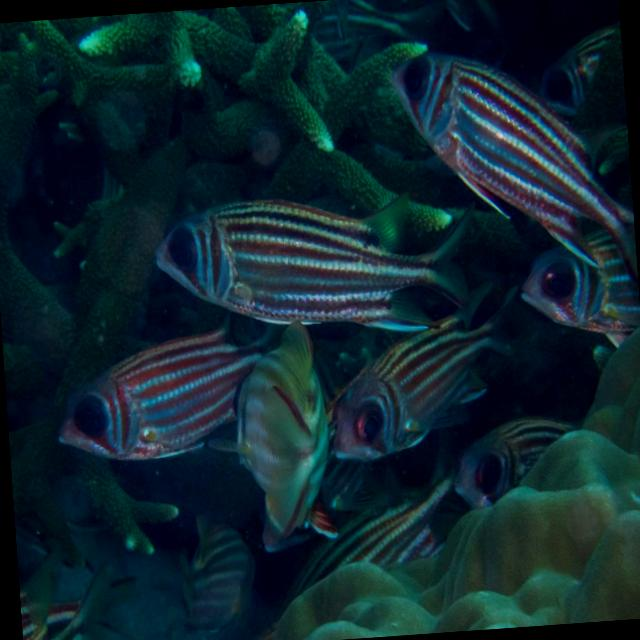Asker Baligi: (139, 160, 490, 360), (388, 20, 638, 288), (38, 316, 327, 480), (308, 268, 539, 472)
